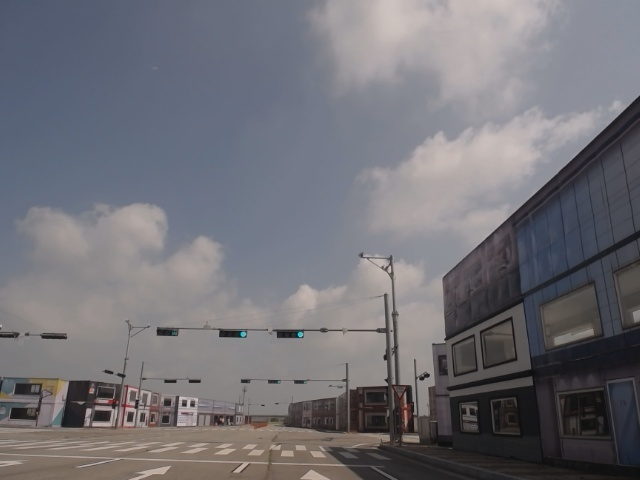straight_green_4: (275, 327, 306, 338), (219, 330, 248, 339)
